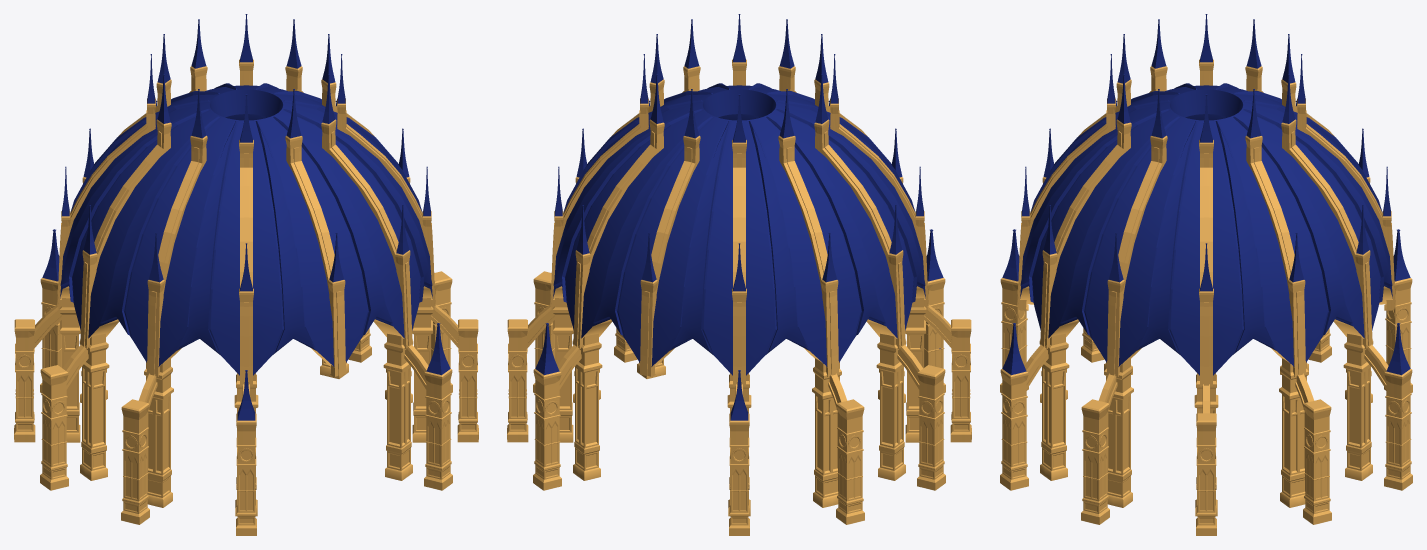
The model's file is Monument.fbx.
3 renders of one model, left to right at view 1: azimuth 30°, elevation 25°; view 2: azimuth 150°, elevation 25°; view 3: azimuth 270°, elevation 25°, orthographic.
Visible parts, largest first — view 1: Dome; view 2: Dome; view 3: Dome.
Boxes of the visible parts, x1,y1,x2,y2 form: Dome: (14, 14, 478, 535); Dome: (507, 14, 971, 535); Dome: (1000, 14, 1412, 535).
Size of the model in its own units: 26 by 23.67 by 23.1.
